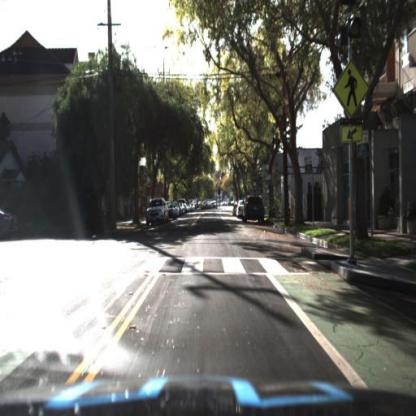car: (143, 194, 169, 225), (242, 194, 268, 225), (245, 194, 268, 227), (236, 197, 249, 221)
